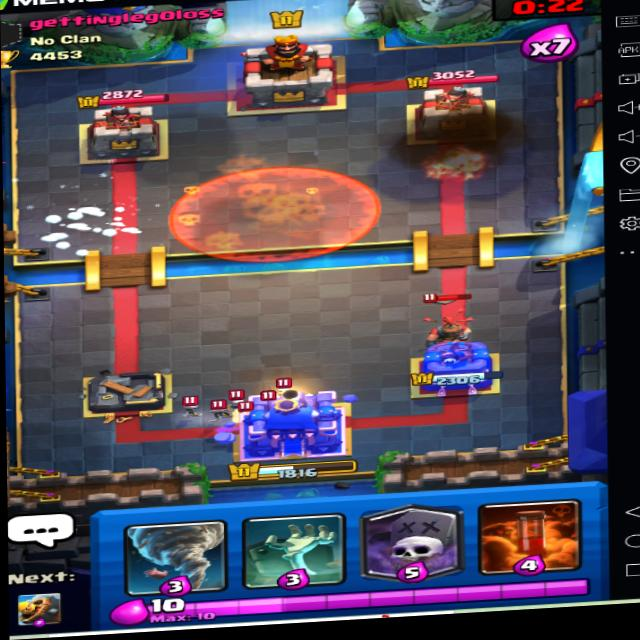poison: (165, 156, 381, 270)
royal-recruits: (419, 296, 481, 351)
skeleton: (262, 378, 297, 407), (215, 390, 249, 417), (207, 395, 236, 421), (170, 399, 199, 421)
